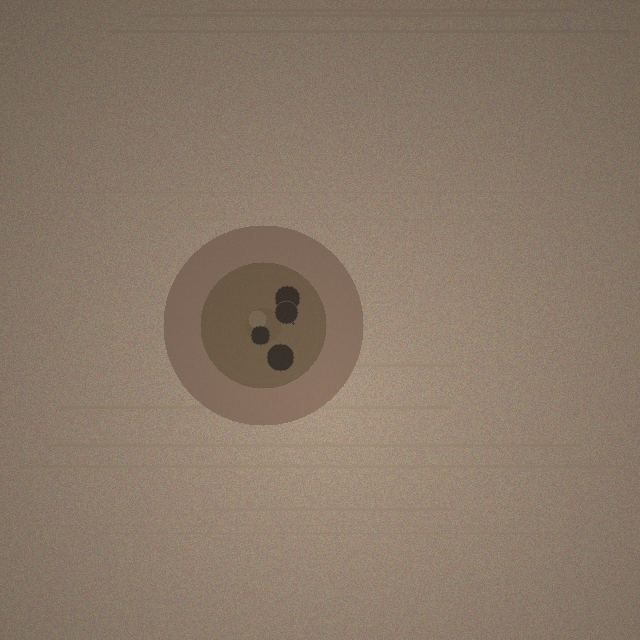shrinkage: (163, 225, 363, 425)
